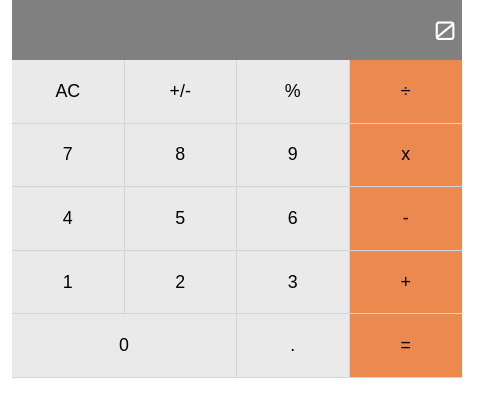
Scenario: The CalculatorApp component displays › the result '1' in the '.final-result' box when user clicks on the button 1
What coordinates should you click on to do the following:
click the button "1"
I would click on:
 (68, 283)
Its box is [12,251,124,314].
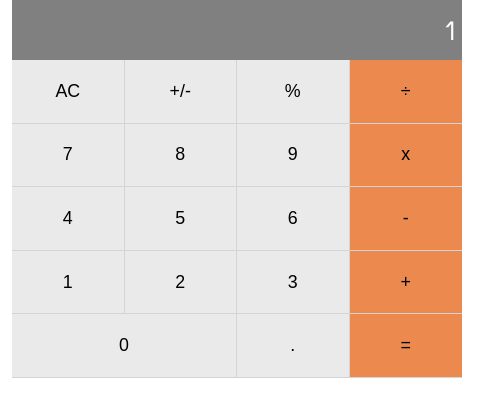
Expected: the text with class "final-result" reads "1", [446,14,456,46]
